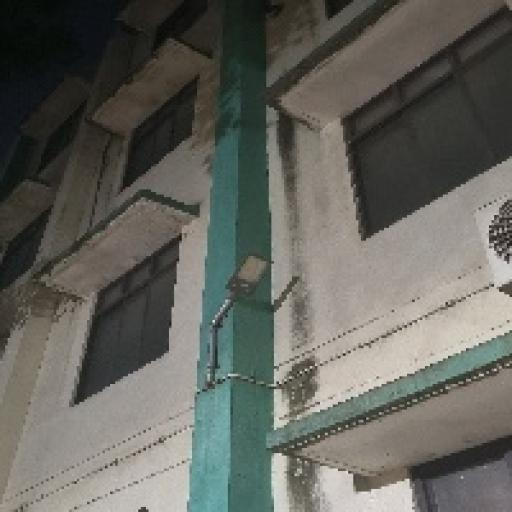Not Working: (206, 242, 284, 311)
